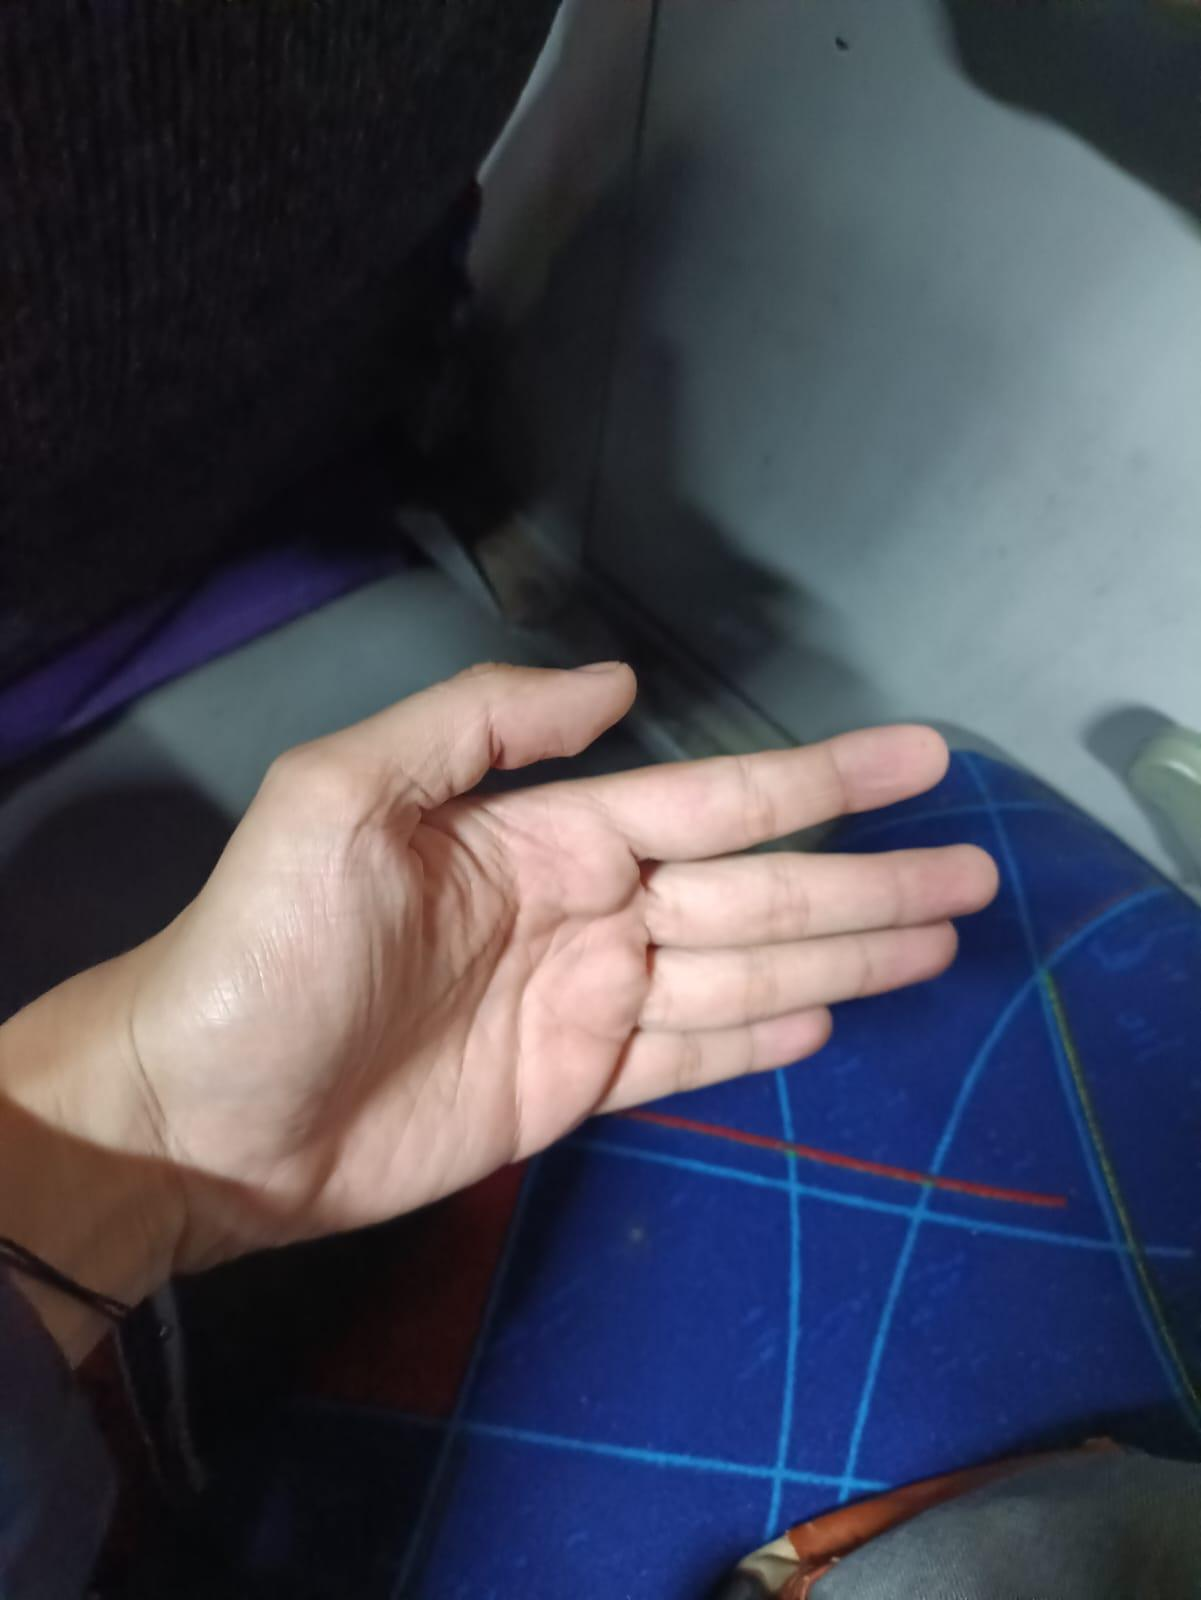Paper: (0, 655, 990, 1367)
